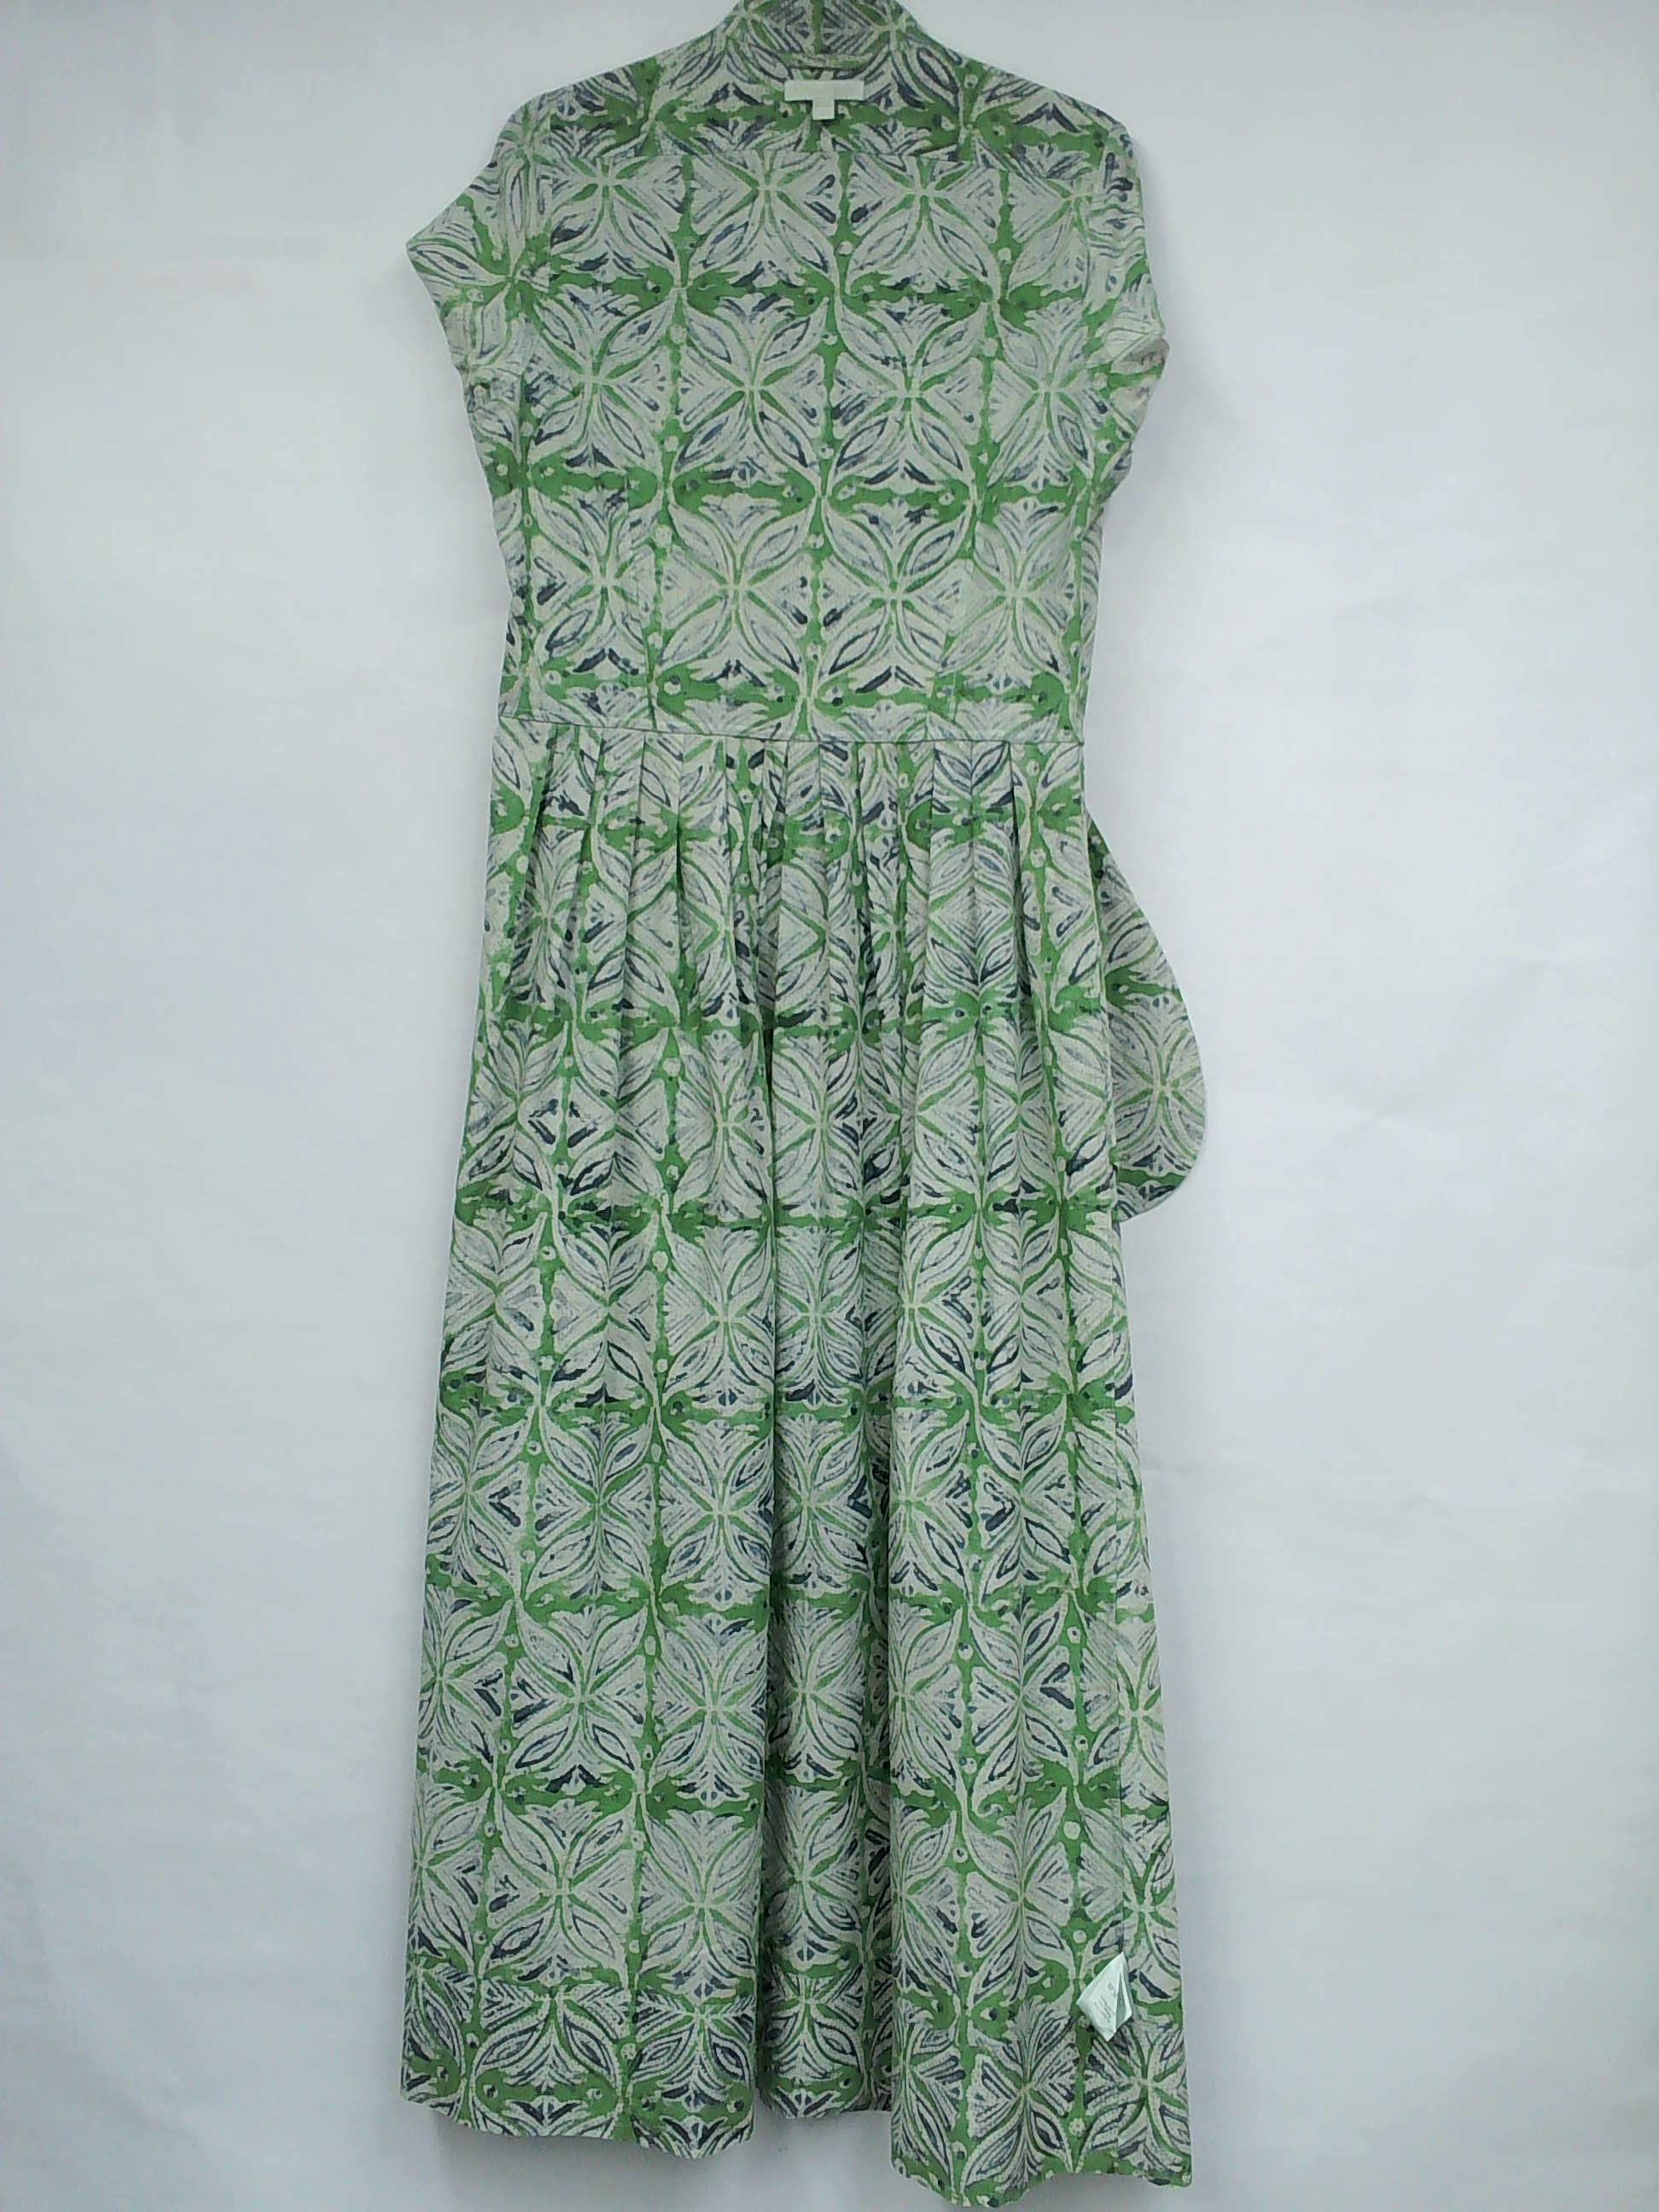seam: (1037, 340, 1190, 500)
